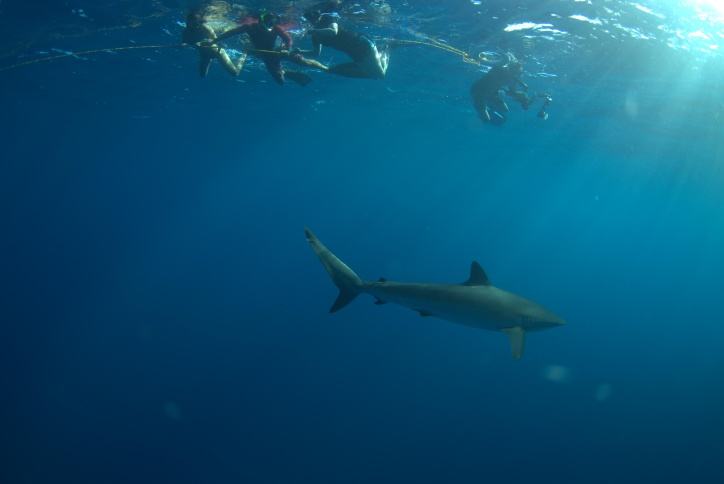Sedoso: (294, 220, 574, 369)
